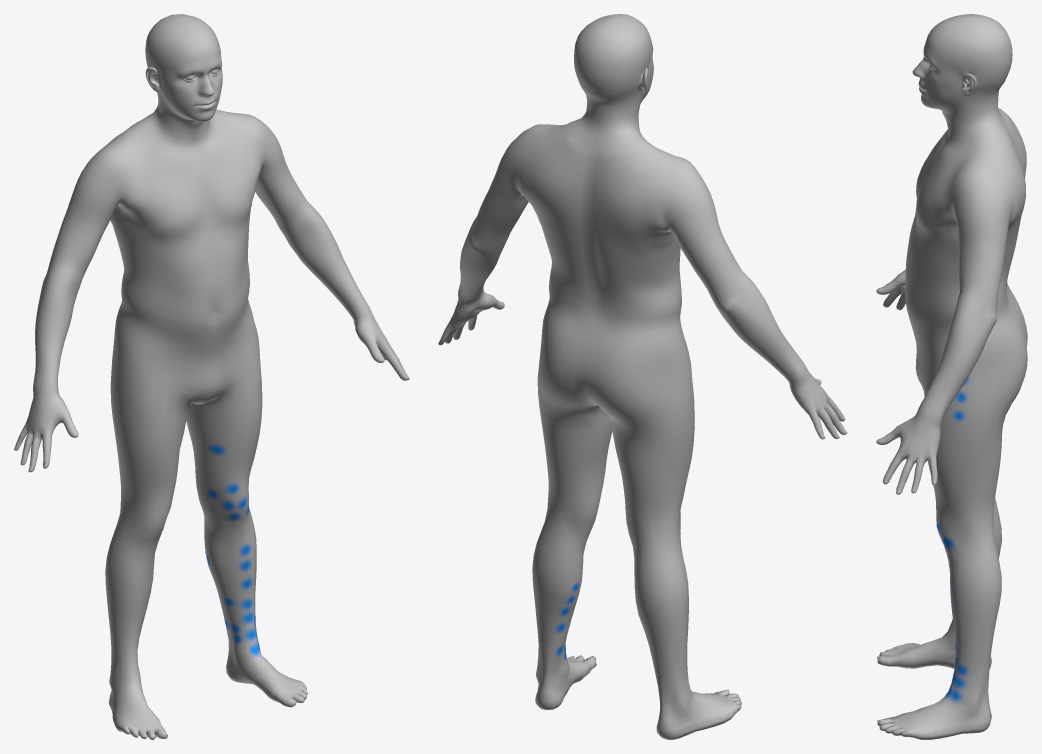
The model's file is 1135018-layingdown-blue.gltf.
3 views of the same model, side by side, from view 1: azimuth 30°, elevation 25°; view 2: azimuth 150°, elevation 25°; view 3: azimuth 270°, elevation 25° (orthographic). The views are drawn at different scales.
Visible parts, largest first — view 1: Male 68in 160lbs-A-pose; view 2: Male 68in 160lbs-A-pose; view 3: Male 68in 160lbs-A-pose.
Boxes of the visible parts, left/top/right/bottom form: Male 68in 160lbs-A-pose: left=14, top=14, right=409, bottom=739; Male 68in 160lbs-A-pose: left=438, top=14, right=847, bottom=739; Male 68in 160lbs-A-pose: left=876, top=14, right=1027, bottom=739.
Size of the model in its own units: 3.05 by 5.17 by 1.04.
1 material, 1 textured.
